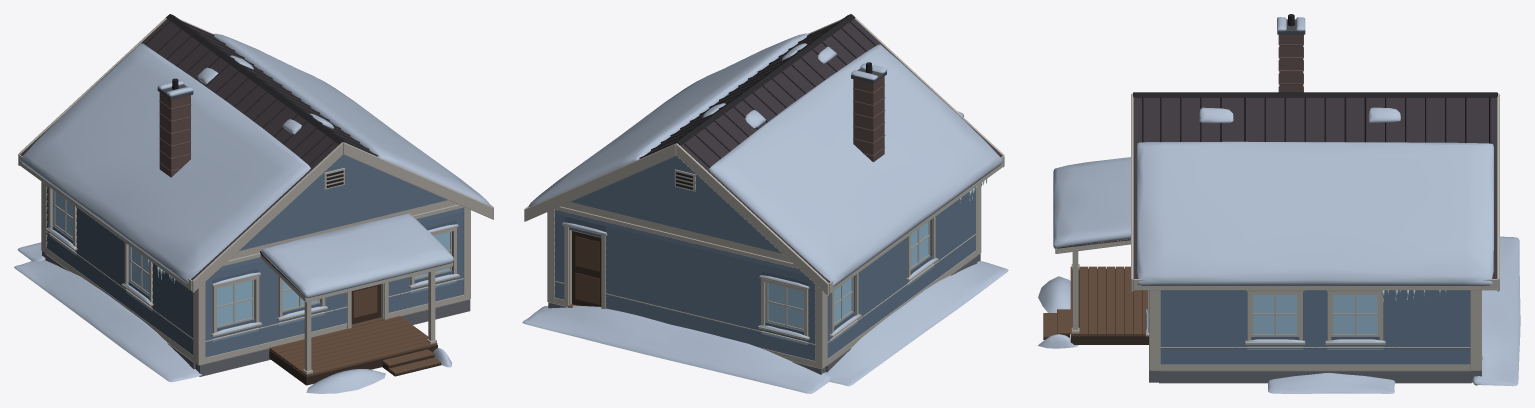
File: house_small_C.glb
The picture shows the model from 3 angles, left to right: view 1: azimuth 30°, elevation 25°; view 2: azimuth 150°, elevation 25°; view 3: azimuth 270°, elevation 25°; orthographic projection. The views are drawn at different scales.
Parts seen in each view (by area): view 1: Roof, Floor0, Walls0_S, Walls0_W, Window_0, Walls0_S_Stub, Door_0, Window_6, Window_7, Walls0_N; view 2: Roof, Walls0_N, Floor0, Walls0_W, Door_1, Window_3, Walls0_N_Stub, Window_6, Window_7, Walls0_S; view 3: Roof, Walls0_E, Floor0, Window_5, Window_4, Walls0_S, Walls0_N, Walls0_E_Stub.
Part boxes in pixels (<box>): Roof: <box>18,14,493,302</box>; Floor0: <box>14,242,470,393</box>; Walls0_S: <box>193,204,470,365</box>; Walls0_W: <box>45,185,193,360</box>; Window_0: <box>217,280,252,325</box>; Walls0_S_Stub: <box>193,278,470,364</box>; Door_0: <box>351,284,380,324</box>; Window_6: <box>131,248,149,292</box>; Window_7: <box>55,192,72,236</box>; Walls0_N: <box>41,181,47,253</box>; Roof: <box>524,14,1004,295</box>; Walls0_N: <box>547,206,827,368</box>; Floor0: <box>522,253,1008,393</box>; Walls0_W: <box>827,187,976,364</box>; Door_1: <box>572,231,601,306</box>; Window_3: <box>768,283,803,328</box>; Walls0_N_Stub: <box>547,281,827,368</box>; Window_6: <box>910,222,928,267</box>; Window_7: <box>834,278,851,323</box>; Walls0_S: <box>975,183,981,256</box>; Roof: <box>1053,14,1499,301</box>; Walls0_E: <box>1160,290,1470,370</box>; Floor0: <box>1038,236,1520,393</box>; Window_5: <box>1333,294,1377,334</box>; Window_4: <box>1253,294,1297,334</box>; Walls0_S: <box>1145,290,1160,370</box>; Walls0_N: <box>1470,290,1482,370</box>; Walls0_E_Stub: <box>1160,346,1470,349</box>.
Size of what is drawn, in the model's own units: 9.87 by 6.88 by 12.04.
